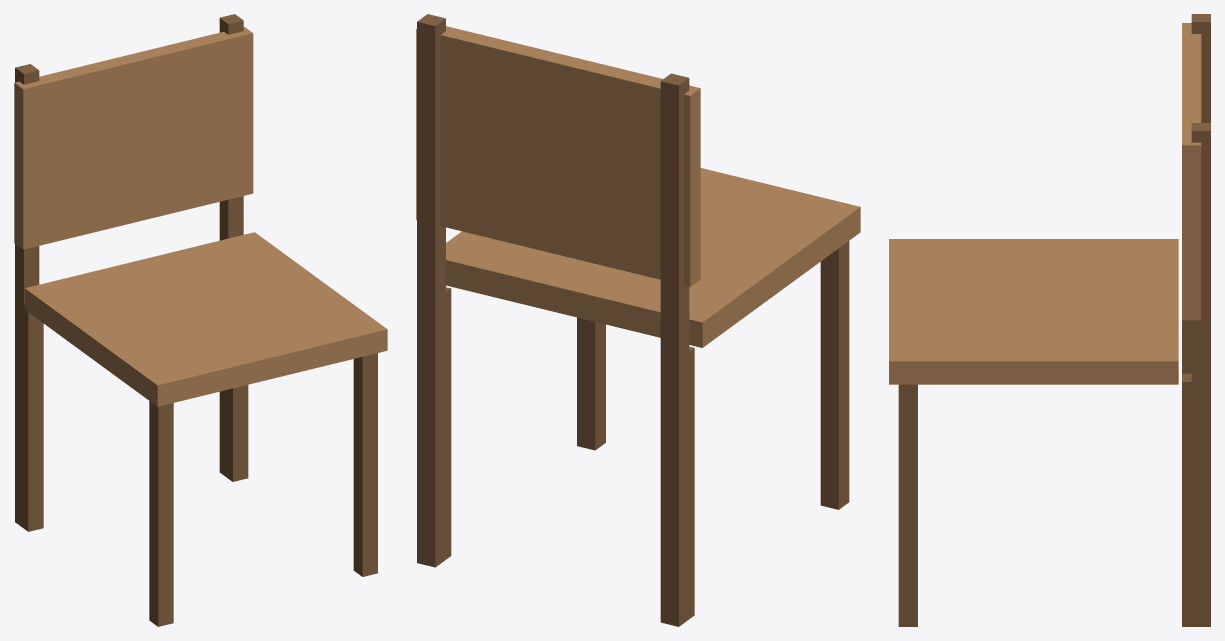
File: chair.glb
3 views of the same model, side by side, from view 1: azimuth 30°, elevation 25°; view 2: azimuth 150°, elevation 25°; view 3: azimuth 270°, elevation 25° (orthographic). The views are drawn at different scales.
Parts seen in each view (by area): view 1: chair; view 2: chair; view 3: chair.
Part boxes in pixels (x1=…): chair: x1=14, y1=14, x2=387, y2=626; chair: x1=416, y1=14, x2=860, y2=626; chair: x1=889, y1=14, x2=1210, y2=626.
Bounding box in the file's own units: 0.45 × 0.85 × 0.5.
